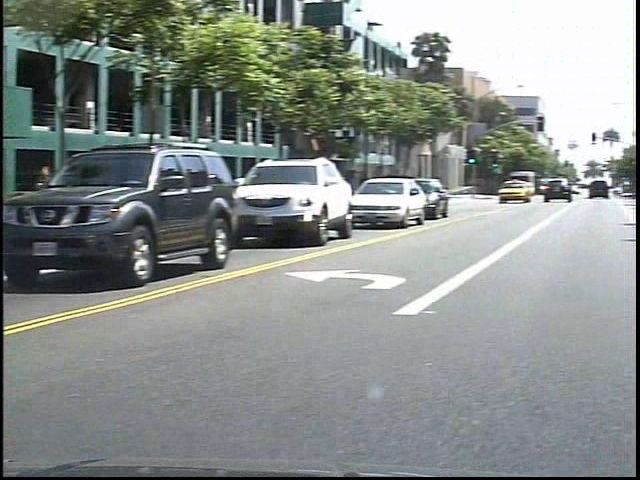car: (3, 130, 204, 291), (227, 151, 356, 247), (350, 149, 439, 235), (493, 177, 537, 205), (540, 174, 572, 202), (585, 179, 611, 199)
